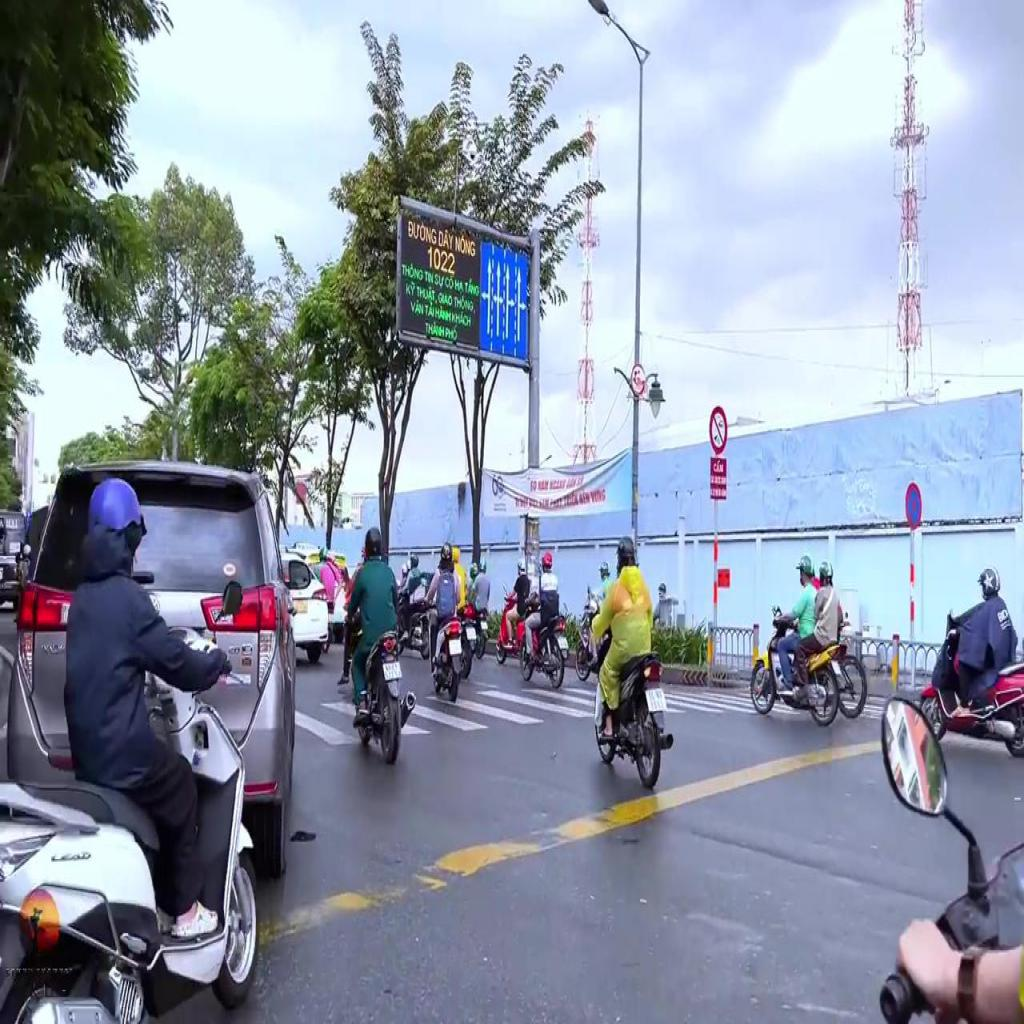cam_cac_loai_xe_3_banh: (710, 406, 727, 454)
cam_dung_xe_va_do_xe: (906, 484, 922, 534)
huong_di_tren_moi_lan_duong_theo_vach_ke_duong: (478, 240, 528, 358)
